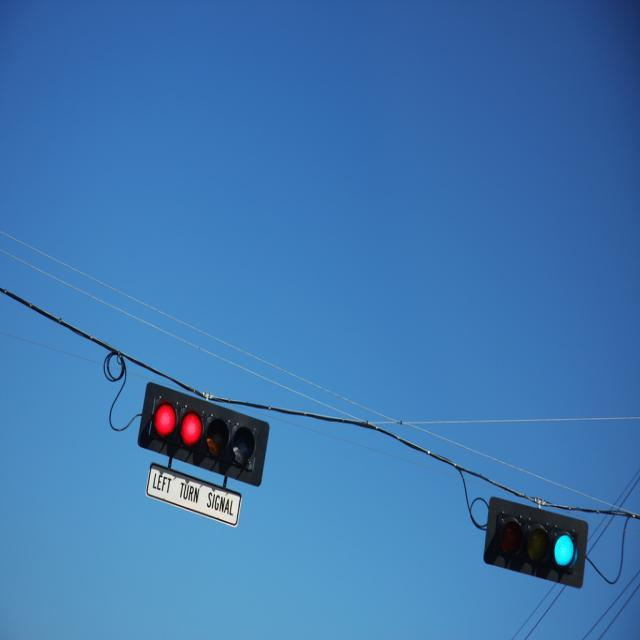traffic light: (138, 381, 271, 487), (484, 495, 589, 590)
